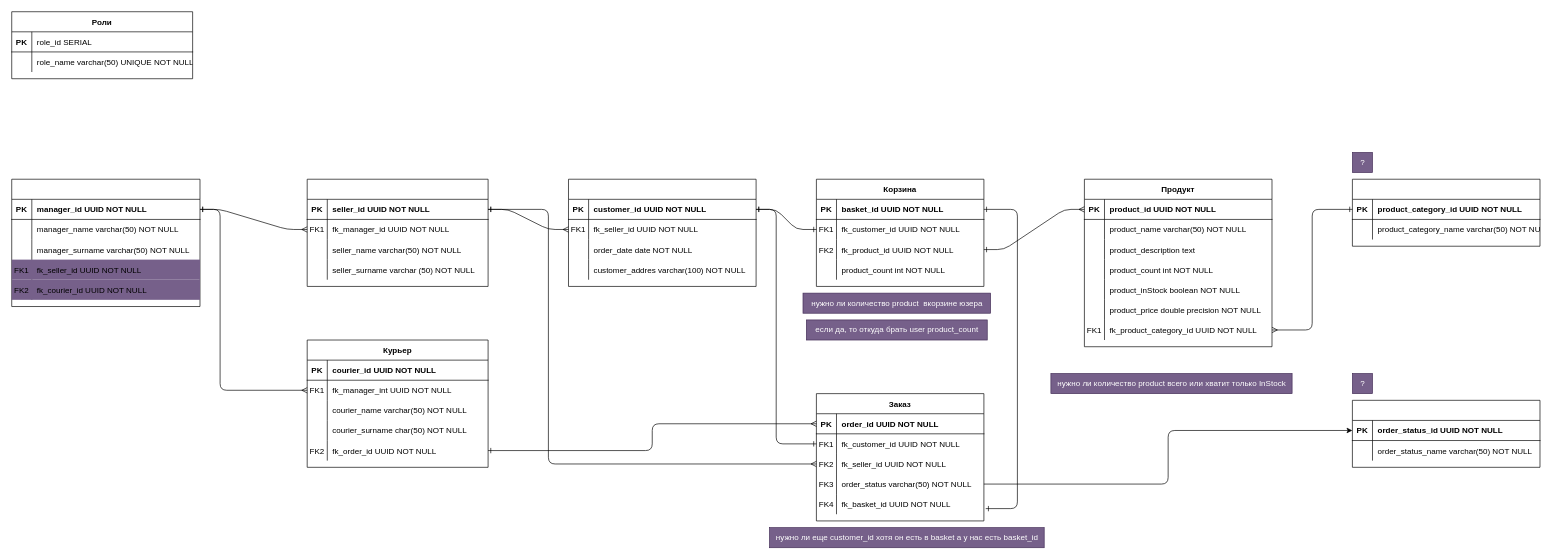
Some shapes in this 1560 by 559 pixel diagram are drawn without their labels. The shapes that lost their labels are listed below. From the top down, each one's box as (x1, y1, x2, y2) in pixels, then its label:
(307, 179, 488, 286): Продавец
(568, 179, 756, 286): Покупатель
(1352, 179, 1540, 246): Категории продуктов
(11, 179, 200, 307): Менеджер
(1352, 400, 1540, 467): Статусы заказа
